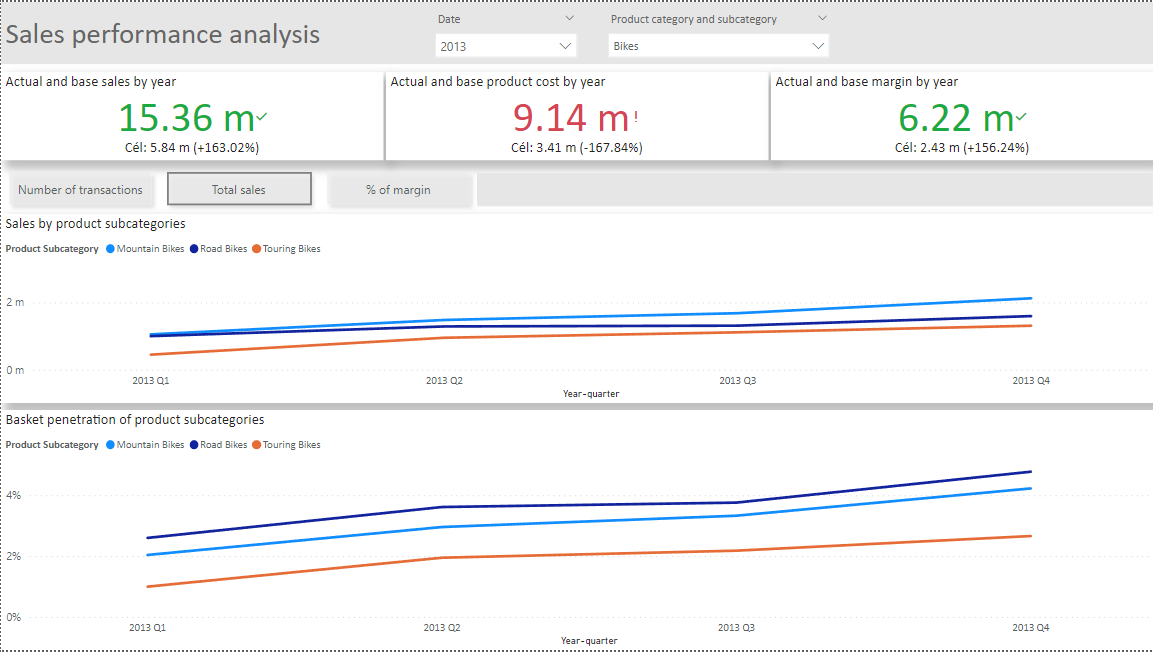

Layout of this report page (visuals, bound fields, positions):
{"tool":"powerbi","page":{"name":"Transactions - Sales","canvas":[1280,720],"ordinal":0},"visuals":[{"type":"kpi","title":"Actual and base sales by year","fields":{"Indicator":["MeasureTable.ActualPeriodTotalSales"],"Goal":["MeasureTable.BasePeriodTotalSales"],"TrendLine":["DimDate.DateHierarchy.CalendarYear"]},"box":[0,78,424.5,98],"z":0,"group":"g1"},{"type":"kpi","title":"Actual and base product cost by year","fields":{"TrendLine":["DimDate.DateHierarchy.CalendarYear"],"Indicator":["MeasureTable.ActualPeriodTotalCost"],"Goal":["MeasureTable.BasePeriodTotalCost"]},"box":[427.7,78,424.5,98],"z":1000,"group":"g1"},{"type":"shape","title":"Box","box":[0,0,1280,69.1],"z":2000},{"type":"kpi","title":"Actual and base margin by year","fields":{"Indicator":["MeasureTable.ActualPeriodTotalMargin"],"Goal":["MeasureTable.BasePeriodTotalMargin"],"TrendLine":["DimDate.DateHierarchy.CalendarYear"]},"box":[855.5,78,424.5,98],"z":2000,"group":"g1"},{"type":"textbox","title":"Header","box":[0,9.7,554.4,50.6],"z":3000},{"type":"slicer","title":"Category/subcategory slicer","fields":{"Values":["DimProduct.CategoryHierarchy.Product Category","DimProduct.CategoryHierarchy.Product Subcategory"]},"box":[664.1,5.3,266.3,59.9],"z":4000},{"type":"slicer","title":"Date slicer","fields":{"Values":["DimDate.DateHierarchy.CalendarYear","DimDate.DateHierarchy.Year-quarter","DimDate.DateHierarchy.Year-month"]},"box":[472.6,5.3,177.5,59.9],"z":5000},{"type":"group","id":"g1","title":"KPI cards","box":[0,78,1280,98],"z":6000},{"type":"lineChart","title":"Number of transactions by product subcategories","fields":{"Category":["DimDate.DateHierarchy.CalendarYear","DimDate.DateHierarchy.Year-quarter","DimDate.DateHierarchy.Year-month","DimDate.DateHierarchy.Month-day"],"Series":["DimProduct.CategoryHierarchy.Product Subcategory"],"Y":["MeasureTable.NumberOfTransactions"]},"box":[0,235.3,1280,210.2],"z":7000},{"type":"lineChart","title":"Basket penetration of product subcategories","fields":{"Y":["MeasureTable.CategoryBasketPenetration"],"Category":["DimDate.DateHierarchy.CalendarYear","DimDate.DateHierarchy.Year-quarter","DimDate.DateHierarchy.Year-month","DimDate.DateHierarchy.Month-day"],"Series":["DimProduct.CategoryHierarchy.Product Subcategory"]},"box":[0,453.1,1280,266.9],"z":8000},{"type":"card","title":"Message","fields":{"Values":["MeasureTable.Message"]},"box":[0,504,1280,184],"z":9000},{"type":"actionButton","title":"Number of transactions button","box":[0,181,176,53],"z":10000},{"type":"actionButton","title":"Total sales button","box":[176,181,177,53],"z":11000},{"type":"actionButton","title":"%margin button","box":[353,181,176,53],"z":12000},{"type":"shape","title":"Box","box":[528.9,190,751.1,36.7],"z":13000},{"type":"shape","box":[7.5,188.8,160.8,37.1],"z":14000}]}

Visuals, with their boxes in screenshot pixels (x1, y1, x2, y2), scaled from the page's 1280x720 canvas onto the 1153x652 screenshot:
"Actual and base sales by year" kpi: 0,71,382,159
"Actual and base product cost by year" kpi: 385,71,768,159
"Box" shape: 0,0,1152,63
"Actual and base margin by year" kpi: 771,71,1152,159
"Header" textbox: 0,9,499,55
"Category/subcategory slicer" slicer: 598,5,838,59
"Date slicer" slicer: 426,5,586,59
"KPI cards" group: 0,71,1152,159
"Number of transactions by product subcategories" lineChart: 0,213,1152,403
"Basket penetration of product subcategories" lineChart: 0,410,1152,651
"Message" card: 0,456,1152,623
"Number of transactions button" actionButton: 0,164,159,212
"Total sales button" actionButton: 159,164,318,212
"%margin button" actionButton: 318,164,477,212
"Box" shape: 476,172,1152,205
shape: 7,171,152,205
